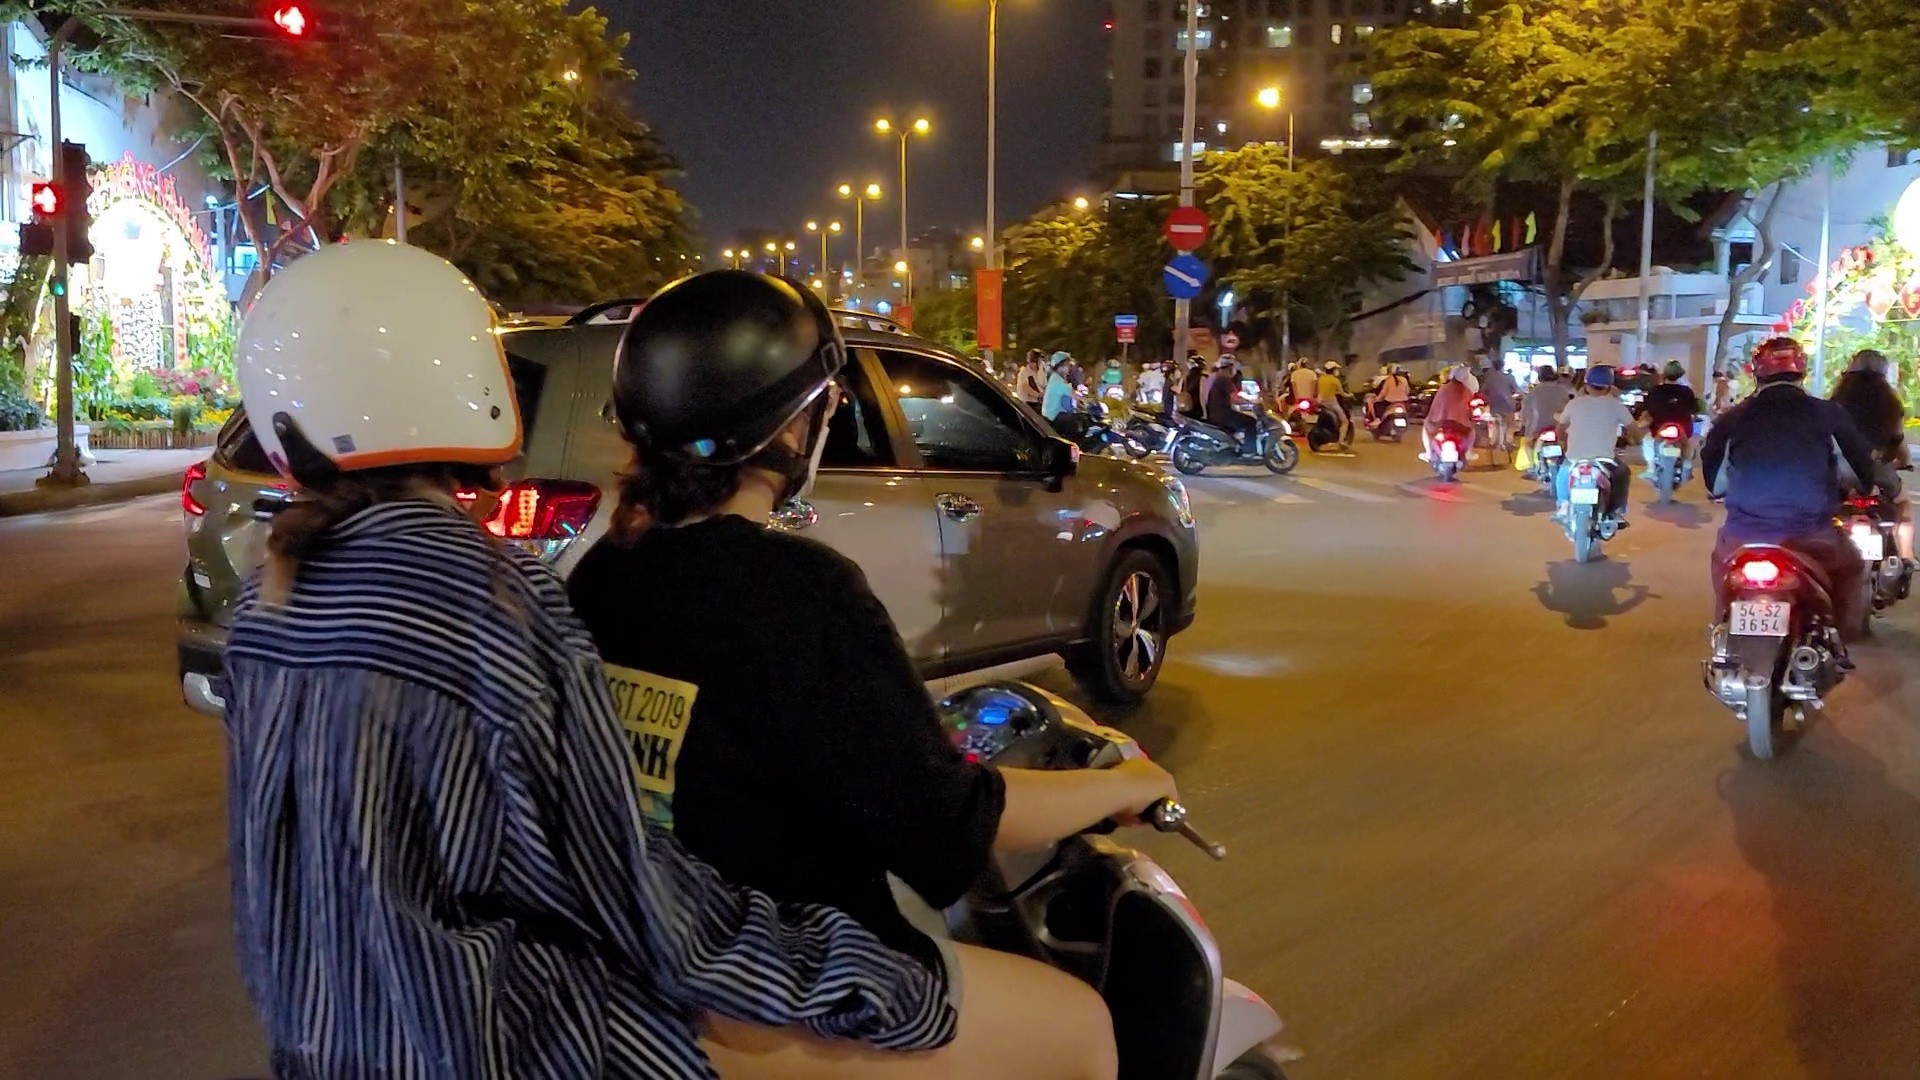Cam di nguoc chieu: (1163, 204, 1212, 251)
Huong di phai re phai: (1160, 255, 1207, 301)
